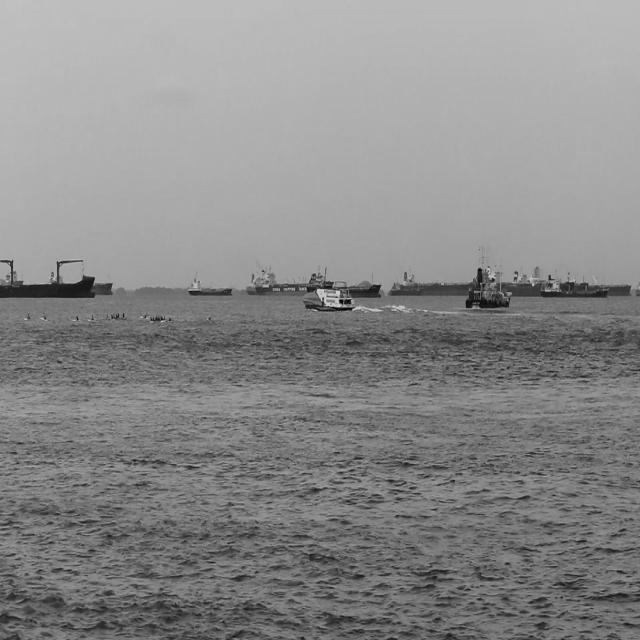kayak: (148, 314, 175, 325), (105, 311, 129, 323), (203, 313, 217, 326), (24, 312, 35, 324), (71, 313, 83, 324), (87, 314, 98, 325), (39, 312, 49, 324), (138, 311, 148, 322)
ship: (388, 263, 532, 297), (0, 258, 97, 301), (525, 262, 632, 296), (464, 242, 512, 311), (307, 266, 383, 301), (245, 260, 307, 298), (541, 271, 610, 299), (302, 283, 357, 313), (48, 270, 112, 294), (187, 269, 234, 299), (2, 268, 24, 289)
